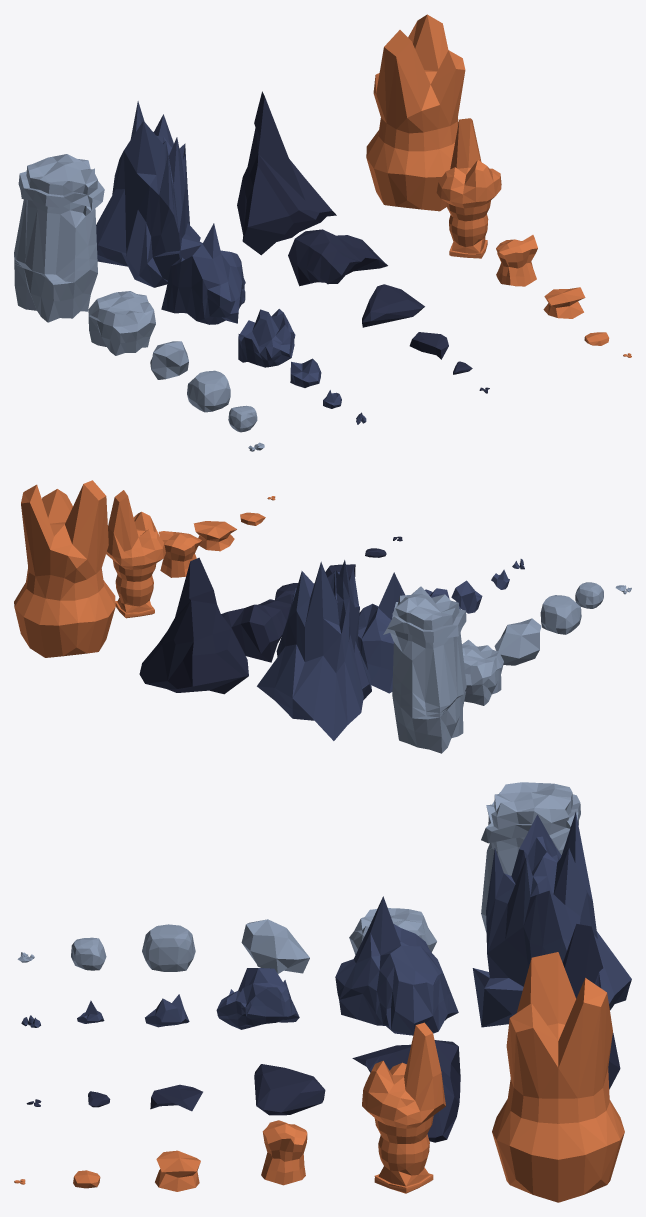
File: Low Poly Rock and Stone Pack.glb
The picture shows the model from 3 angles, top to bottom: view 1: azimuth 30°, elevation 25°; view 2: azimuth 150°, elevation 25°; view 3: azimuth 270°, elevation 25°; orthographic projection. The views are drawn at different scales.
Visible parts, largest first — view 1: Sandstone Size 6, Plainstone Size 6, Spikestone Size 6, Smoothstone Size 6, Spikestone Size 5, Sandstone Size 5, Smoothstone Size 5, Plainstone Size 5, Spikestone Size 4, Sandstone Size 4, Smoothstone Size 4, Plainstone Size 3 (+5 smaller); view 2: Sandstone Size 6, Spikestone Size 6, Plainstone Size 6, Smoothstone Size 6, Sandstone Size 5, Spikestone Size 5, Smoothstone Size 5, Plainstone Size 5, Plainstone Size 4, Sandstone Size 4, Plainstone Size 3, Sandstone Size 3 (+2 smaller); view 3: Sandstone Size 6, Spikestone Size 6, Spikestone Size 5, Sandstone Size 5, Plainstone Size 6, Spikestone Size 4, Smoothstone Size 5, Smoothstone Size 4, Plainstone Size 4, Sandstone Size 4, Smoothstone Size 6, Plainstone Size 3 (+5 smaller).
Boxes of the visible parts, left/top/right/bottom form: Sandstone Size 6: left=366, top=14, right=465, bottom=211; Plainstone Size 6: left=14, top=154, right=104, bottom=322; Spikestone Size 6: left=96, top=101, right=202, bottom=287; Smoothstone Size 6: left=237, top=91, right=336, bottom=255; Spikestone Size 5: left=161, top=223, right=245, bottom=324; Sandstone Size 5: left=436, top=118, right=501, bottom=258; Smoothstone Size 5: left=288, top=229, right=387, bottom=286; Plainstone Size 5: left=88, top=291, right=155, bottom=355; Spikestone Size 4: left=238, top=309, right=295, bottom=367; Sandstone Size 4: left=496, top=235, right=537, bottom=286; Smoothstone Size 4: left=362, top=284, right=424, bottom=327; Plainstone Size 3: left=187, top=370, right=230, bottom=412; Sandstone Size 6: left=14, top=480, right=115, bottom=657; Spikestone Size 6: left=257, top=560, right=371, bottom=740; Plainstone Size 6: left=383, top=586, right=466, bottom=753; Smoothstone Size 6: left=139, top=557, right=248, bottom=694; Sandstone Size 5: left=106, top=490, right=165, bottom=618; Spikestone Size 5: left=357, top=572, right=404, bottom=693; Smoothstone Size 5: left=221, top=599, right=291, bottom=662; Plainstone Size 5: left=462, top=639, right=503, bottom=705; Plainstone Size 4: left=494, top=618, right=541, bottom=665; Sandstone Size 4: left=158, top=531, right=201, bottom=577; Plainstone Size 3: left=540, top=595, right=581, bottom=634; Sandstone Size 3: left=193, top=521, right=236, bottom=551; Sandstone Size 6: left=492, top=952, right=624, bottom=1202; Spikestone Size 6: left=472, top=812, right=631, bottom=1027; Spikestone Size 5: left=335, top=896, right=458, bottom=1035; Sandstone Size 5: left=362, top=1022, right=445, bottom=1193; Plainstone Size 6: left=481, top=782, right=580, bottom=932; Spikestone Size 4: left=216, top=968, right=299, bottom=1029; Smoothstone Size 5: left=352, top=1040, right=460, bottom=1142; Smoothstone Size 4: left=254, top=1064, right=325, bottom=1115; Plainstone Size 4: left=241, top=919, right=309, bottom=973; Sandstone Size 4: left=261, top=1120, right=307, bottom=1185; Smoothstone Size 6: left=563, top=924, right=620, bottom=1089; Plainstone Size 3: left=142, top=924, right=195, bottom=971.
Bounding box in the file's own units: 49.43 × 19.73 × 46.47.
1 material, 1 textured.
